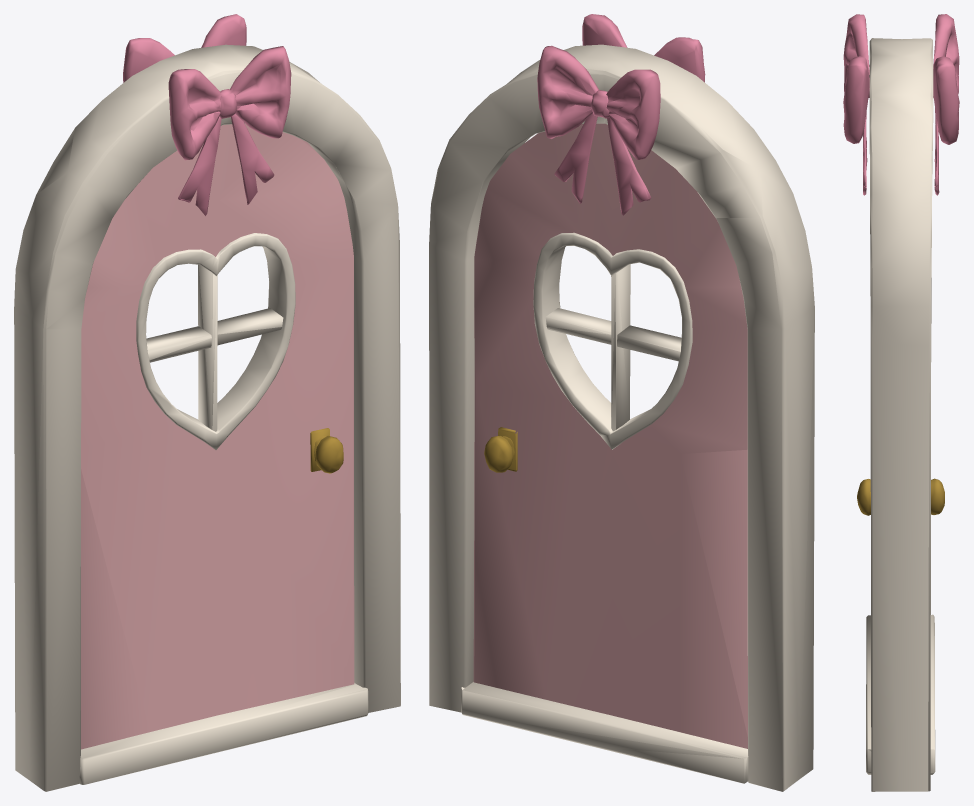
The model's file is showroom-door.glb.
The picture shows the model from 3 angles, left to right: view 1: azimuth 30°, elevation 25°; view 2: azimuth 150°, elevation 25°; view 3: azimuth 270°, elevation 25°; orthographic projection. The views are drawn at different scales.
Visible parts, largest first — view 1: ribbon-leaf, ribbon-frame; view 2: ribbon-leaf, ribbon-frame; view 3: ribbon-frame, ribbon-leaf.
Part boxes in pixels (x1,y1,x2,y2): ribbon-leaf: (79, 123, 368, 784); ribbon-frame: (14, 14, 400, 791); ribbon-leaf: (461, 123, 748, 783); ribbon-frame: (429, 14, 814, 791); ribbon-frame: (843, 14, 959, 791); ribbon-leaf: (857, 478, 944, 774).
Bounding box in the file's own units: 1.27 × 2.36 × 0.3718.
